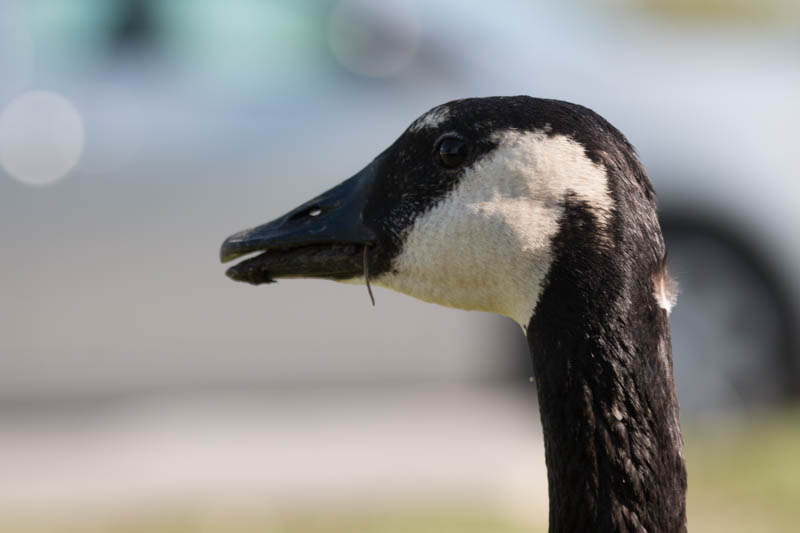goose-head: (220, 95, 671, 334)
